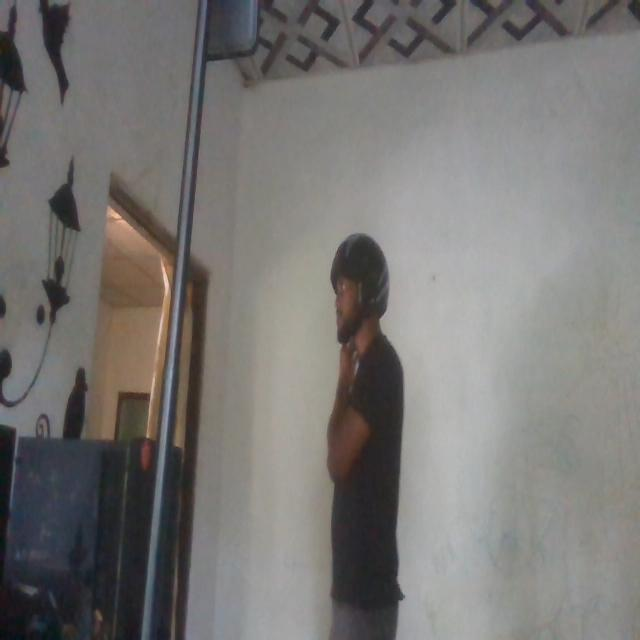Helmet_Wearer: (324, 232, 390, 364)
Person: (320, 228, 414, 640)
